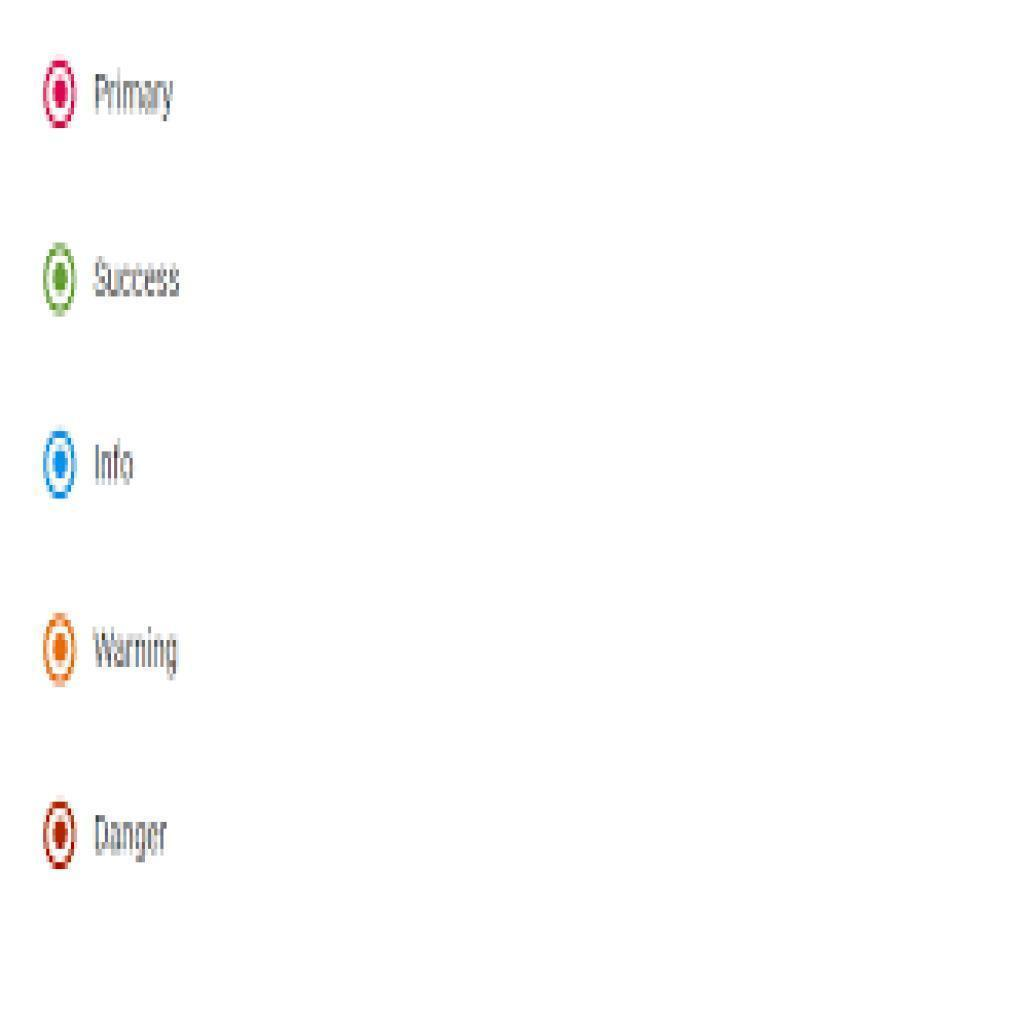label: (88, 623, 181, 681), (90, 65, 176, 126), (93, 252, 185, 303), (93, 811, 171, 868), (94, 437, 136, 486)
radio: (43, 56, 80, 133), (42, 242, 77, 319), (42, 802, 79, 874), (44, 610, 77, 690), (40, 430, 77, 498)
